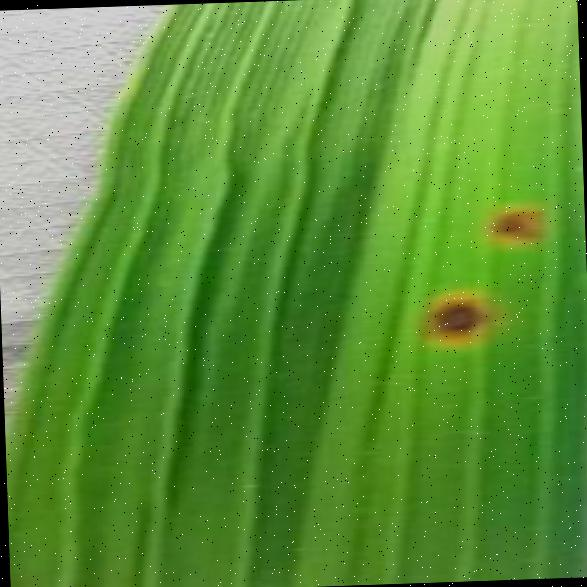Brown_Spot: (400, 268, 530, 362), (474, 189, 560, 264)
